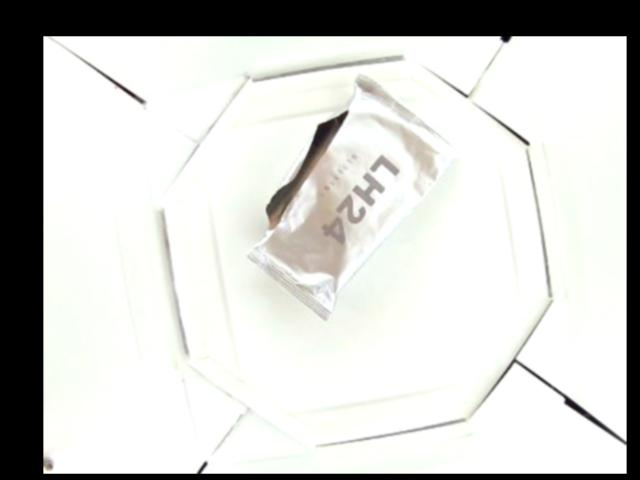Medicine: (247, 70, 458, 323)
